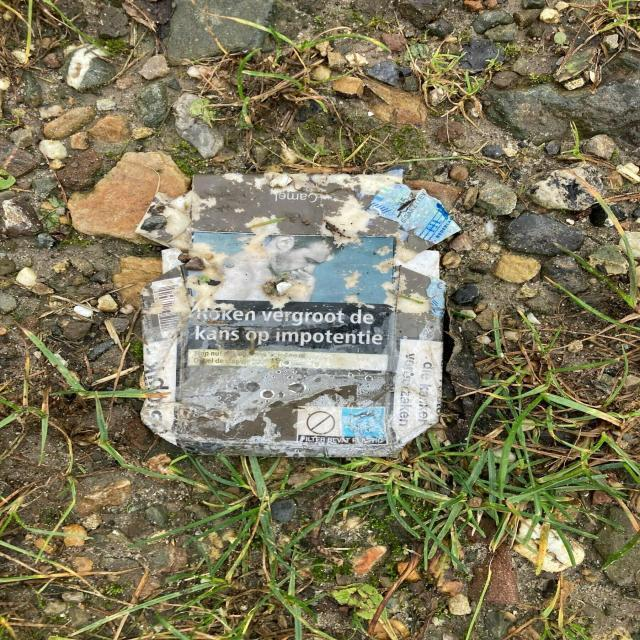Paper: (131, 162, 469, 464)
